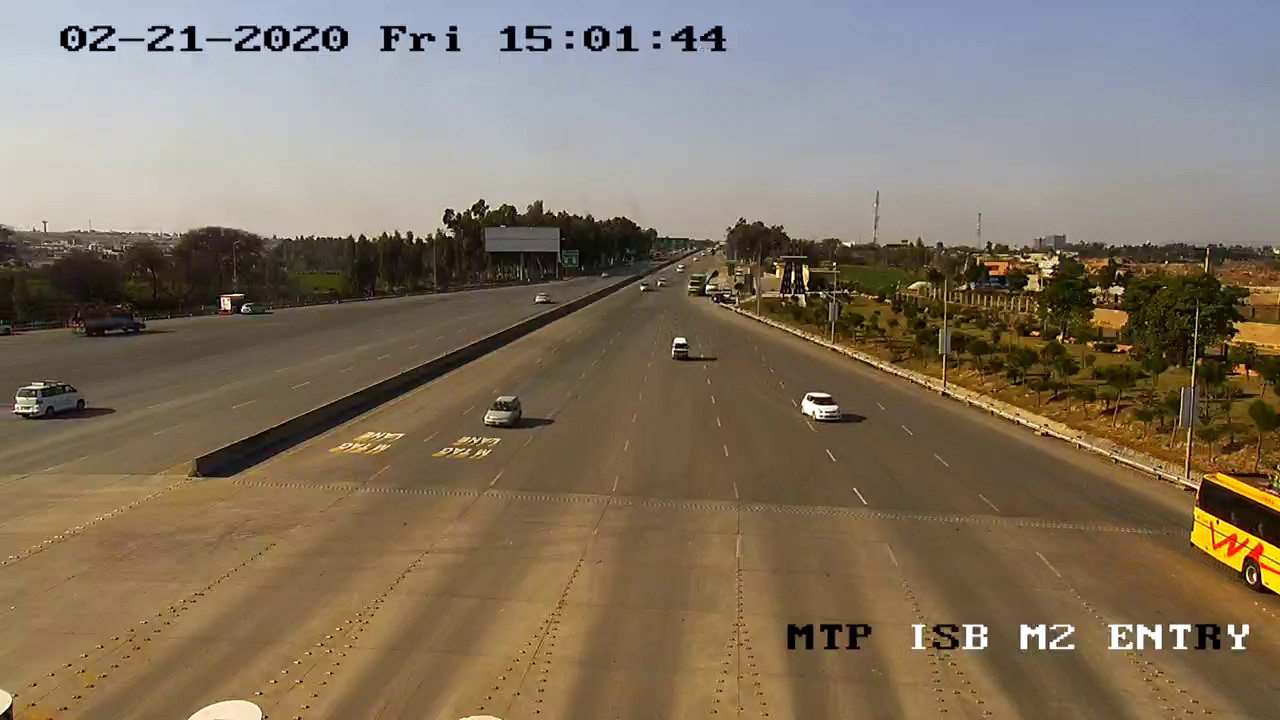f1: (792, 382, 847, 428), (478, 388, 527, 438)
